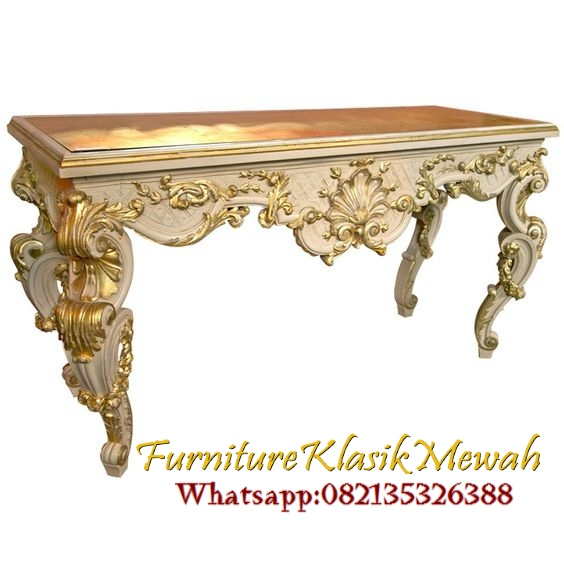Carving Table: (10, 105, 534, 477)
